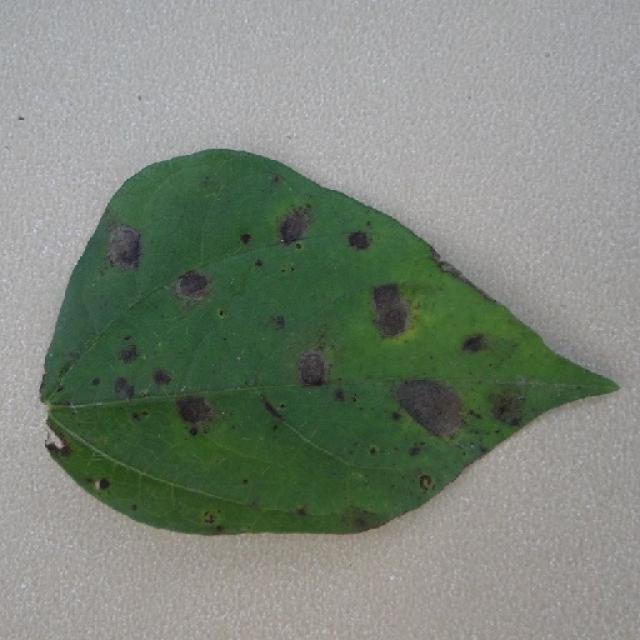Anthracnose: (393, 378, 466, 439), (369, 282, 412, 338), (174, 394, 219, 434), (105, 224, 143, 270), (489, 385, 528, 426), (173, 264, 214, 301), (277, 206, 314, 245), (295, 348, 329, 387), (43, 425, 71, 457), (460, 333, 488, 354), (113, 376, 136, 401), (346, 229, 372, 251), (152, 368, 172, 387), (120, 346, 139, 364), (93, 476, 112, 492), (419, 475, 433, 492), (272, 314, 286, 328), (239, 233, 252, 245), (368, 445, 378, 455)
Blackgram: (40, 150, 616, 534)
